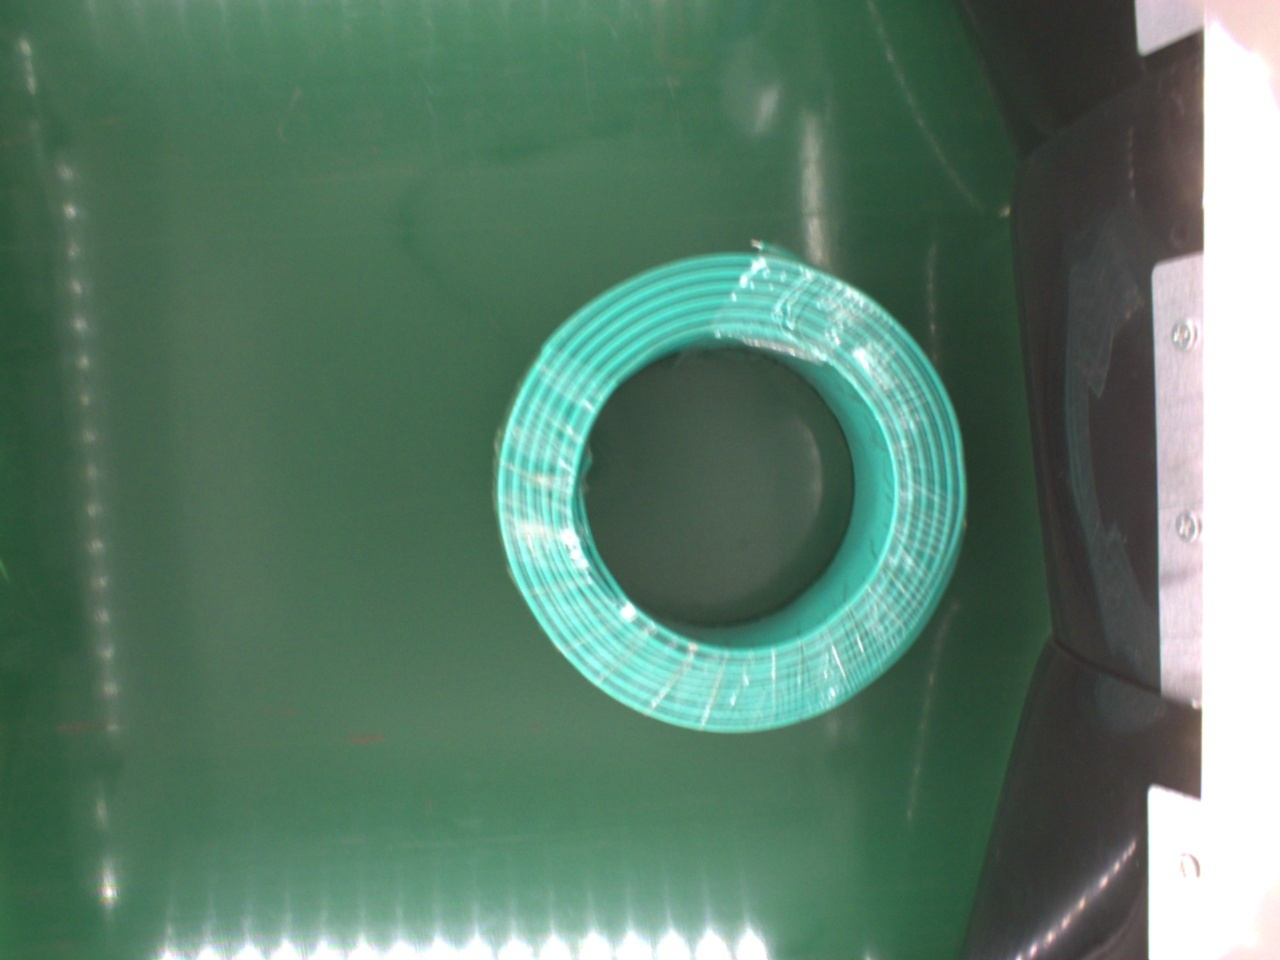green: (495, 260, 965, 734)
